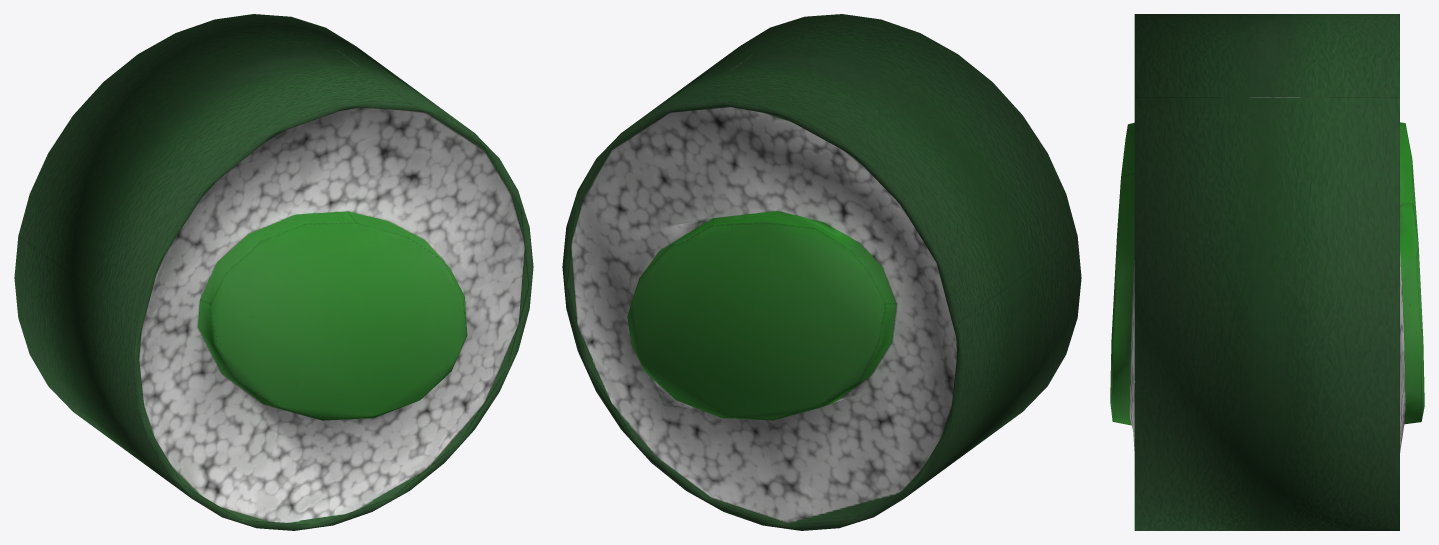
File: sushi_vegano.glb
3 renders of one model, left to right at view 1: azimuth 30°, elevation 25°; view 2: azimuth 150°, elevation 25°; view 3: azimuth 270°, elevation 25°, orthographic. The views are drawn at different scales.
Visible parts, largest first — view 1: Cylinder; view 2: Cylinder; view 3: Cylinder.
Boxes of the visible parts, x1,y1,x2,y2 form: Cylinder: (14, 14, 533, 530); Cylinder: (562, 14, 1081, 530); Cylinder: (1110, 14, 1424, 530).
Bounding box in the file's own units: 1.95 × 1.95 × 1.18.
1 material, 1 textured.
